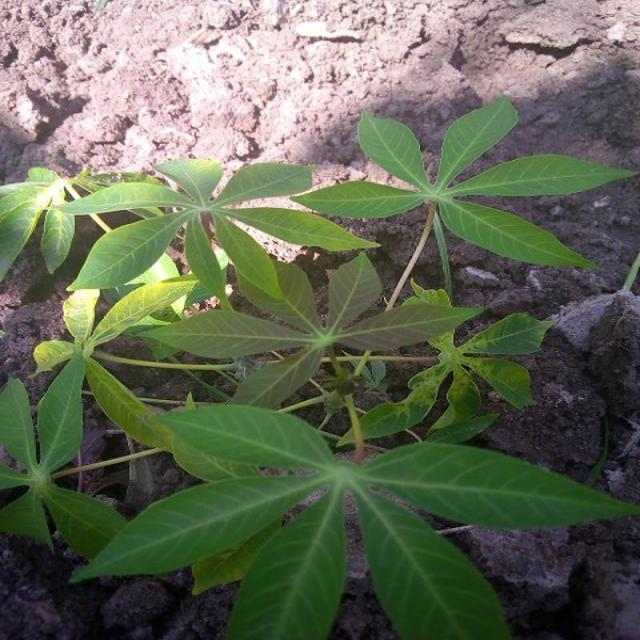cassava leaf: (1, 94, 638, 638)
